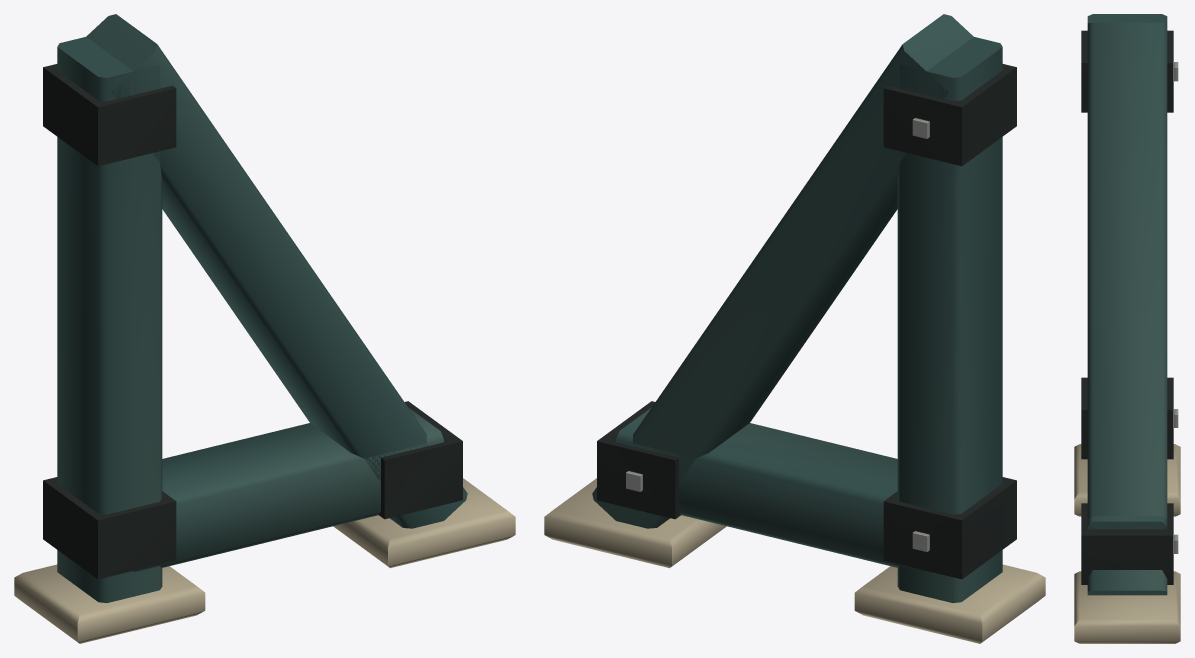
File: strut_tall.glb
3 views of the same model, side by side, from view 1: azimuth 30°, elevation 25°; view 2: azimuth 150°, elevation 25°; view 3: azimuth 270°, elevation 25° (orthographic). The views are drawn at different scales.
Parts seen in each view (by area): view 1: Strut; view 2: Strut; view 3: Strut.
Part boxes in pixels (x1,y1,x2,y2): Strut: (14, 14, 515, 643); Strut: (544, 14, 1045, 643); Strut: (1074, 14, 1180, 643).
Bounding box in the file's own units: 2.4 × 3 × 0.6.
